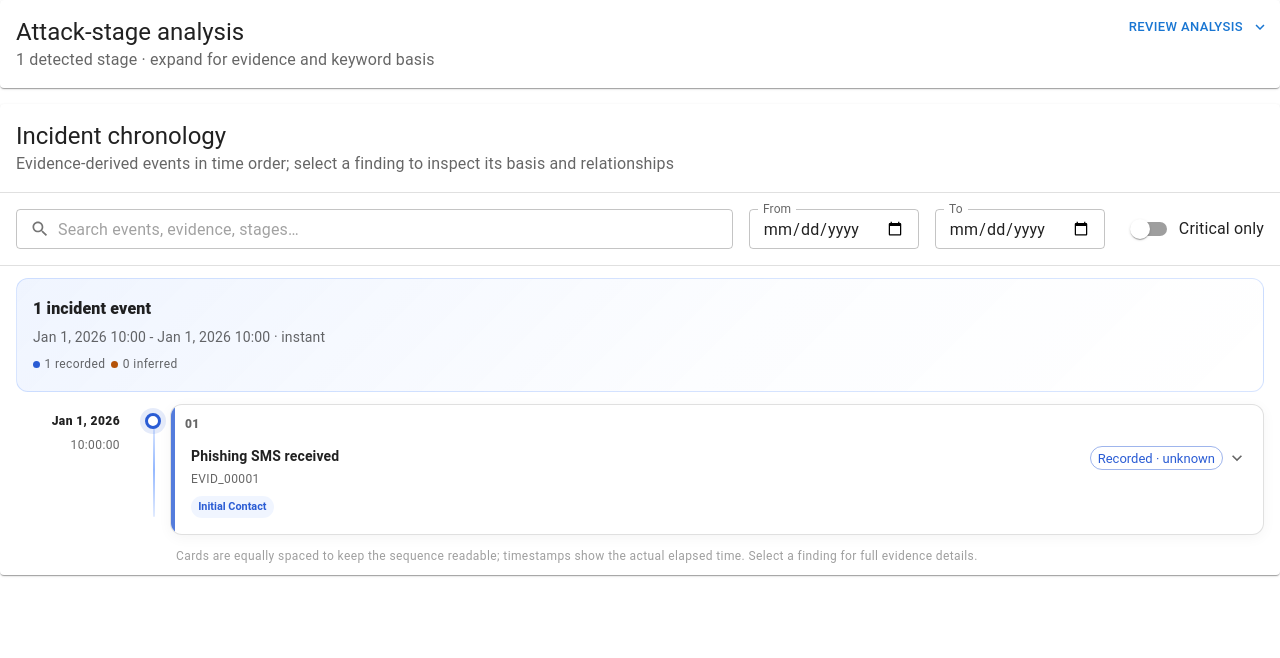
TimelineTab event details › keeps detailed stage evidence collapsed until requested
Expected: the text "Initial contact was evidenced by the stored message." is not shown
Click the button "Review analysis": (1198, 27) [1124, 12, 1272, 43]
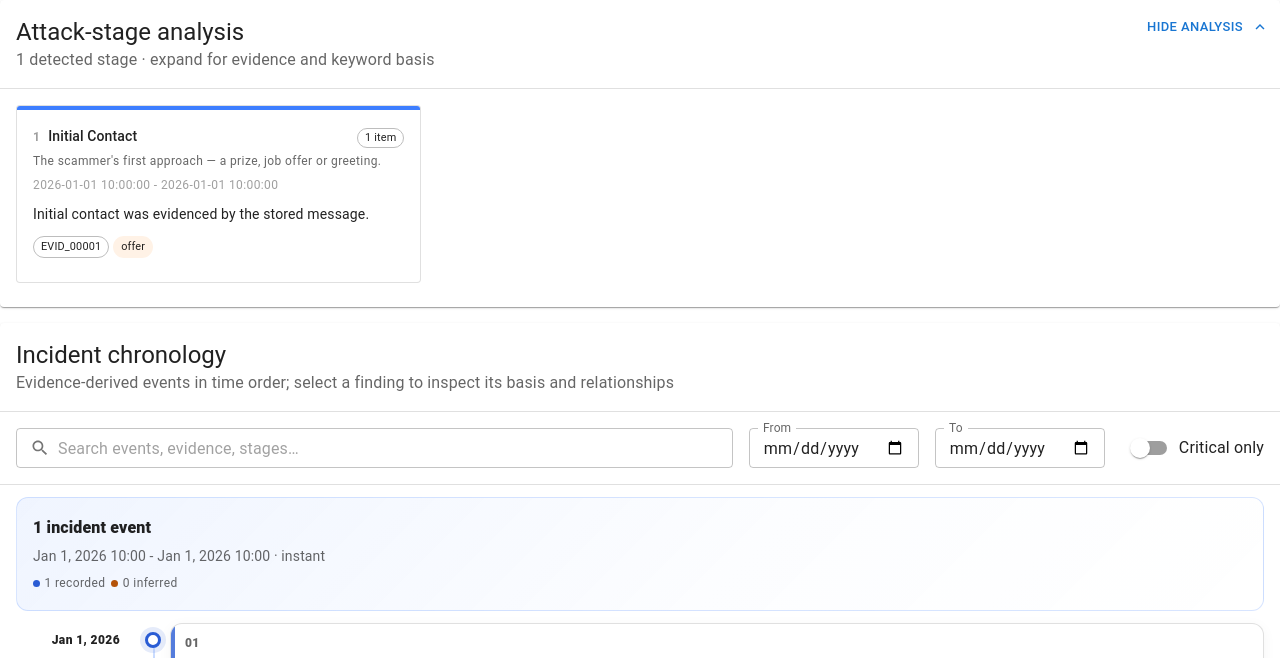
Now the text "Initial contact was evidenced by the stored message." is shown, box [33, 204, 404, 224]
